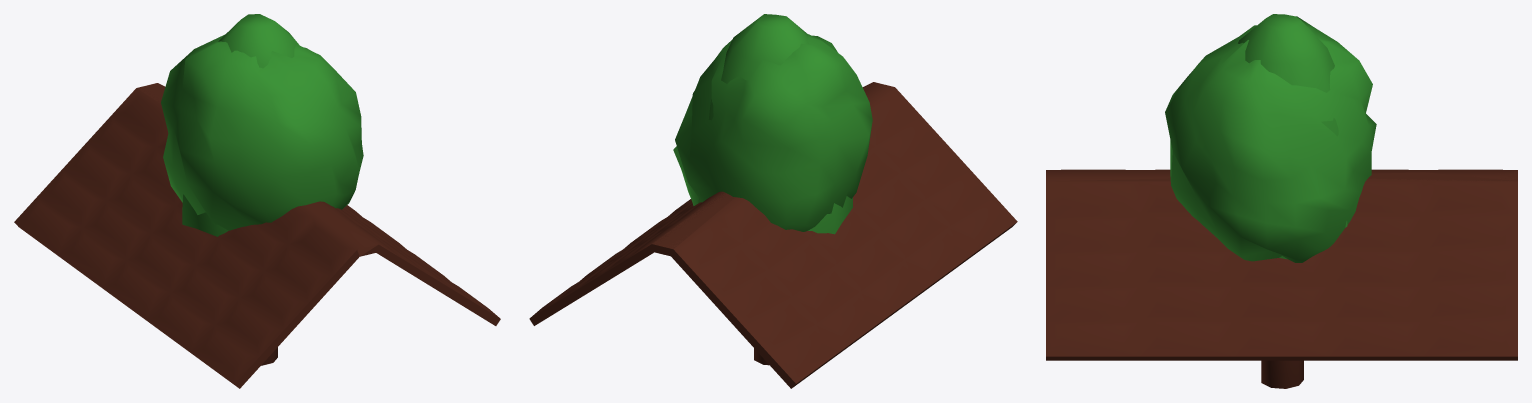
File: winHole3.fbx
The picture shows the model from 3 angles, left to right: view 1: azimuth 30°, elevation 25°; view 2: azimuth 150°, elevation 25°; view 3: azimuth 270°, elevation 25°; orthographic projection. The views are drawn at different scales.
Visible parts, largest first — view 1: roof.002, tree_crone, tree_crone_con; view 2: roof.002, tree_crone, tree_crone_con; view 3: roof.002, tree_crone, tree_crone_con, tree.
Boxes of the visible parts, left/top/right/bottom form: roof.002: left=14, top=83, right=500, bottom=388; tree_crone: left=161, top=34, right=363, bottom=230; tree_crone_con: left=182, top=14, right=299, bottom=236; roof.002: left=529, top=82, right=1017, bottom=388; tree_crone: left=673, top=33, right=872, bottom=231; tree_crone_con: left=698, top=14, right=852, bottom=234; roof.002: left=1046, top=169, right=1517, bottom=360; tree_crone: left=1165, top=16, right=1376, bottom=262; tree_crone_con: left=1238, top=14, right=1347, bottom=259; tree: left=1261, top=360, right=1303, bottom=388.
Bounding box in the file's own units: 139 × 168 × 200.
